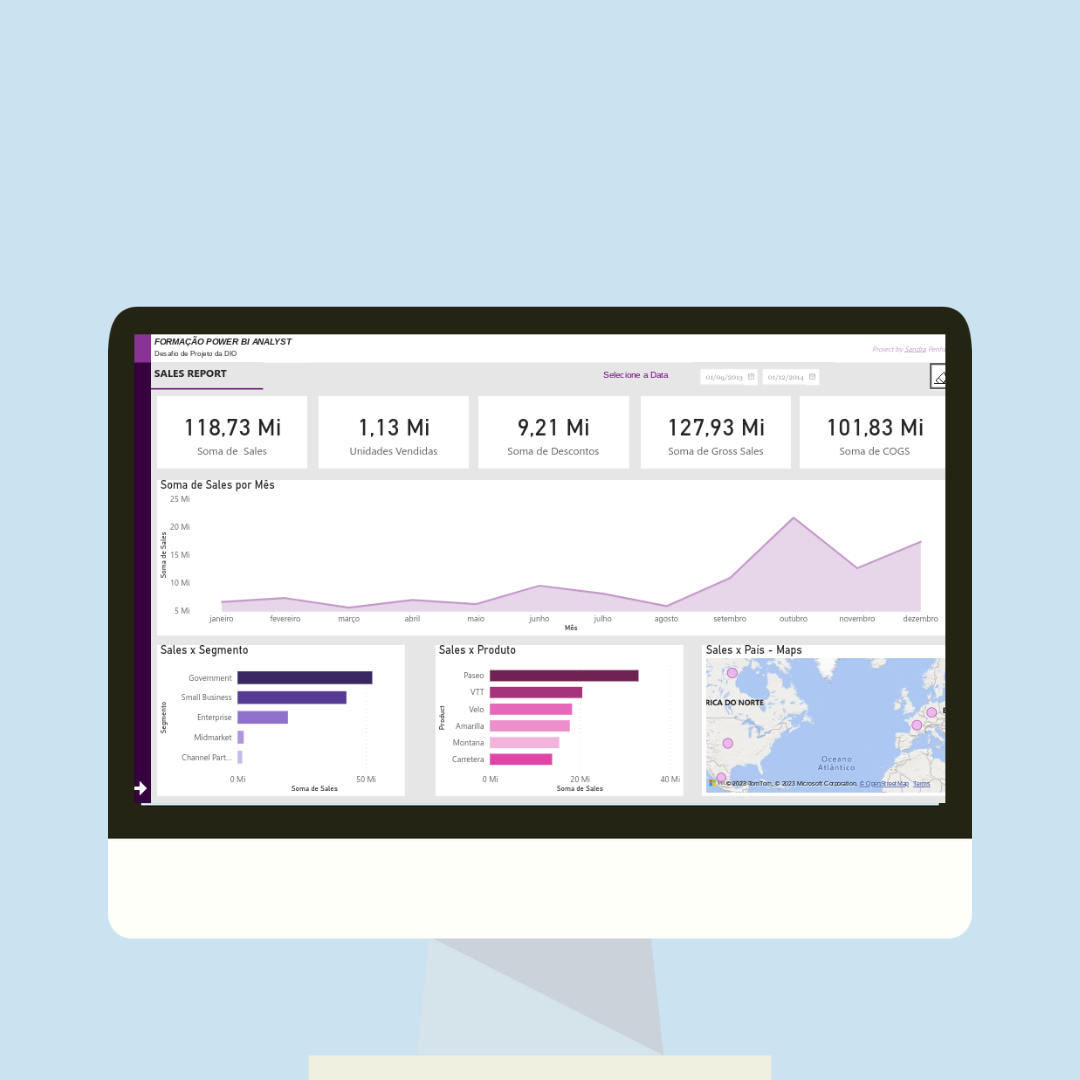

This screenshot's page, from the dashboard's own definition file:
{"tool":"powerbi","page":{"name":"Página 1","canvas":[1280,720],"ordinal":0},"visuals":[{"type":"shape","box":[0,0,48.3,719.5],"z":0},{"type":"slicer","fields":{"Values":["financials.Date"]},"box":[872.1,45.7,218.3,38.9],"z":0,"group":"g1"},{"type":"shape","box":[0,0,48.3,46],"z":1000},{"type":"shape","box":[48.3,0,1232.2,46],"z":2000},{"type":"textbox","box":[48.3,0,237.9,46],"z":3000},{"type":"textbox","box":[732.8,50.6,139.3,28.4],"z":3000,"group":"g1"},{"type":"textbox","box":[48.3,46,172.4,40.2],"z":4000},{"type":"shape","box":[48.3,74.7,171.3,23],"z":5000},{"type":"shape","box":[57.5,97.7,228.7,110.3],"z":6000},{"type":"shape","box":[303.4,97.7,228.7,110.3],"z":7000},{"type":"shape","box":[549.4,97.7,228.7,110.3],"z":8000},{"type":"shape","box":[796.5,97.7,228.7,110.3],"z":9000},{"type":"shape","box":[1039.1,97.7,228.7,110.3],"z":10000},{"type":"shape","box":[57.5,225.3,1210.3,236.8],"z":11000},{"type":"shape","box":[57.5,477,378.2,229.9],"z":12000},{"type":"shape","box":[482.8,477,378.2,229.9],"z":13000},{"type":"shape","box":[889.6,477,378.2,229.9],"z":14000},{"type":"areaChart","fields":{"Category":["financials.Date.Variation.Hierarquia de datas.Mês"],"Y":["Sum(financials. Sales)"]},"box":[57.5,225.3,1210.3,236.8],"z":15000},{"type":"card","fields":{"Values":["Sum(financials. Sales)"]},"box":[57.5,97.7,228.7,110.3],"z":16000},{"type":"card","fields":{"Values":["Sum(financials.Units Sold)"]},"box":[303.4,97.7,228.7,110.3],"z":17000},{"type":"card","fields":{"Values":["Sum(financials.Discounts)"]},"box":[548.3,97.7,228.7,110.3],"z":18000},{"type":"card","fields":{"Values":["Sum(financials.Gross Sales)"]},"box":[796.5,97.7,228.7,110.3],"z":19000},{"type":"card","fields":{"Values":["Sum(financials.COGS)"]},"box":[1039.1,97.7,228.7,110.3],"z":20000},{"type":"clusteredBarChart","title":"Sales x Segmento","fields":{"Y":["Sum(financials. Sales)"],"Category":["financials.Segment"]},"box":[57.5,477,378.2,229.9],"z":21000},{"type":"clusteredBarChart","title":"Sales x Produto","fields":{"Y":["Sum(financials. Sales)"],"Category":["financials.Product"]},"box":[482.8,477,378.2,229.9],"z":22000},{"type":"map","title":"Sales x País - Maps","fields":{"Category":["financials.Country"],"Size":["Sum(financials. Sales)"]},"box":[890,476.7,377.8,230],"z":23000},{"type":"group","id":"g1","title":"Filtro por Data","box":[732.8,45.7,357.7,38.9],"z":24000},{"type":"shape","box":[5.1,683.5,36.7,24.1],"z":27000},{"type":"image","box":[1232.4,45.7,47.6,47.6],"z":27001},{"type":"actionButton","box":[1237.2,46.6,38.9,39.8],"z":27002},{"type":"textbox","box":[1143.6,9.8,132.5,26],"z":27003}]}

Visuals, with their boxes on the page's 1280x720 design canvas (x1, y1, x2, y2). These are canvas units, not pixel positions in the 1080x1080 screenshot, which may show the page scaled, cropped or inside an application window:
shape: rect(0, 0, 48, 720)
slicer - financials.Date: rect(872, 46, 1090, 85)
shape: rect(0, 0, 48, 46)
shape: rect(48, 0, 1280, 46)
textbox: rect(48, 0, 286, 46)
textbox: rect(733, 51, 872, 79)
textbox: rect(48, 46, 221, 86)
shape: rect(48, 75, 220, 98)
shape: rect(58, 98, 286, 208)
shape: rect(303, 98, 532, 208)
shape: rect(549, 98, 778, 208)
shape: rect(796, 98, 1025, 208)
shape: rect(1039, 98, 1268, 208)
shape: rect(58, 225, 1268, 462)
shape: rect(58, 477, 436, 707)
shape: rect(483, 477, 861, 707)
shape: rect(890, 477, 1268, 707)
areaChart - financials.Date.Variation.Hierarquia de datas.Mês x Sum(financials. Sales): rect(58, 225, 1268, 462)
card - Sum(financials. Sales): rect(58, 98, 286, 208)
card - Sum(financials.Units Sold): rect(303, 98, 532, 208)
card - Sum(financials.Discounts): rect(548, 98, 777, 208)
card - Sum(financials.Gross Sales): rect(796, 98, 1025, 208)
card - Sum(financials.COGS): rect(1039, 98, 1268, 208)
"Sales x Segmento" clusteredBarChart: rect(58, 477, 436, 707)
"Sales x Produto" clusteredBarChart: rect(483, 477, 861, 707)
"Sales x País - Maps" map: rect(890, 477, 1268, 707)
"Filtro por Data" group: rect(733, 46, 1090, 85)
shape: rect(5, 684, 42, 708)
image: rect(1232, 46, 1280, 93)
actionButton: rect(1237, 47, 1276, 86)
textbox: rect(1144, 10, 1276, 36)
